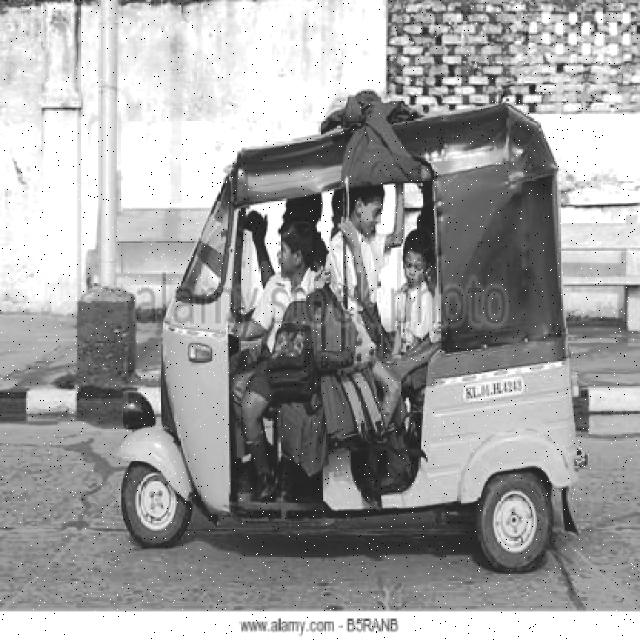Auto-Rickshaw: (119, 117, 582, 581)
